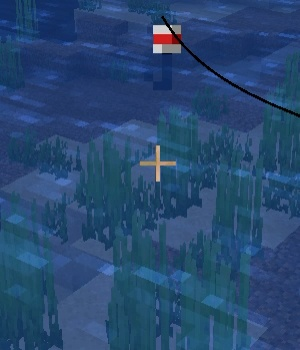up: (147, 22, 185, 93)
